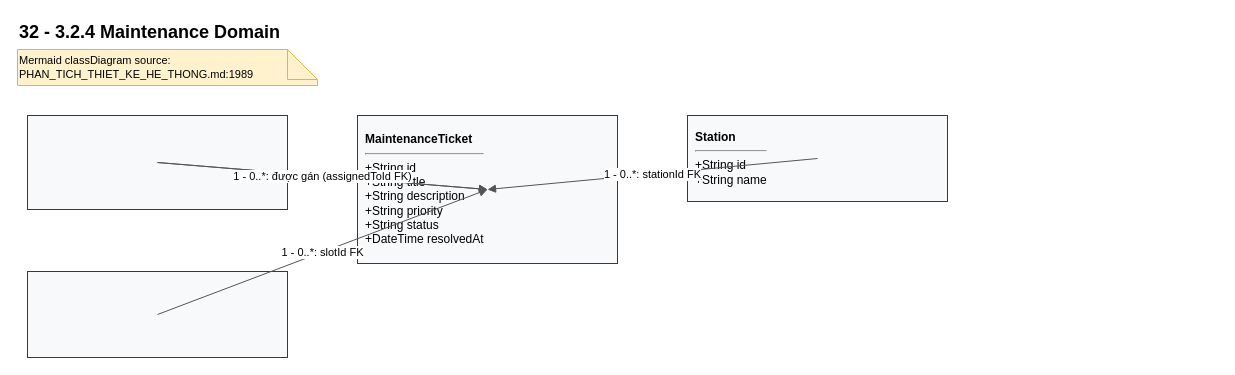
Image size: 1235x375. Some labels were removed from this diagram. Here are the shapes that lost their labels. From the top down, the box of each, then its label:
(26, 114, 288, 210): User +String id +String name +String role
(26, 270, 288, 358): Slot +String id +String slotNumber
